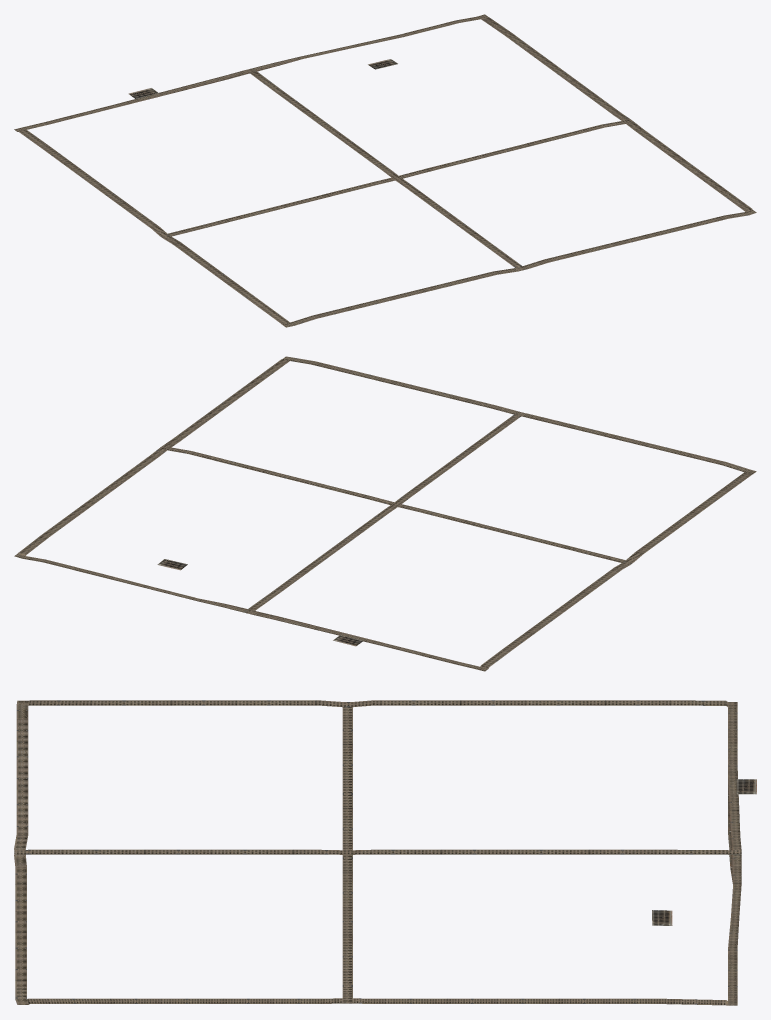
The model's file is Corridor_00_00.003.fbx.
3 views of the same model, one above another, from view 1: azimuth 30°, elevation 25°; view 2: azimuth 150°, elevation 25°; view 3: azimuth 270°, elevation 25° (orthographic). The views are drawn at different scales.
Visible parts, largest first — view 1: Corridor_00_00.003; view 2: Corridor_00_00.003; view 3: Corridor_00_00.003.
Boxes of the visible parts, x1=… form: Corridor_00_00.003: x1=14, y1=14, x2=756, y2=327; Corridor_00_00.003: x1=14, y1=356, x2=756, y2=671; Corridor_00_00.003: x1=14, y1=700, x2=756, y2=1005.
Size of the model in its own units: 3422 by 24.04 by 3532.
